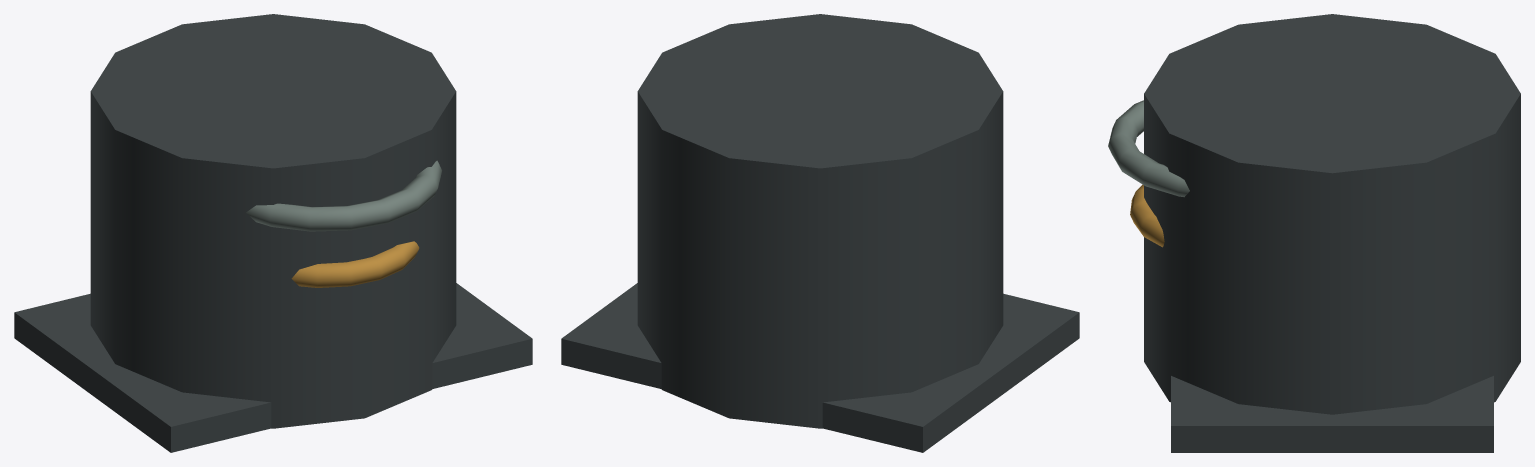
The model's file is clockwork_moss_terrarium.glb.
3 views of the same model, side by side, from view 1: azimuth 30°, elevation 25°; view 2: azimuth 150°, elevation 25°; view 3: azimuth 270°, elevation 25° (orthographic). The views are drawn at different scales.
Parts seen in each view (by area): view 1: terrarium, habitat_base, gear_2, gear_1; view 2: terrarium, habitat_base; view 3: terrarium, habitat_base, gear_2, gear_1.
Part boxes in pixels (x1,y1,x2,y2): terrarium: [90, 14, 456, 428]; habitat_base: [14, 283, 532, 452]; gear_2: [246, 160, 441, 231]; gear_1: [291, 241, 419, 287]; terrarium: [637, 14, 1003, 428]; habitat_base: [561, 283, 1079, 452]; terrarium: [1144, 14, 1520, 414]; habitat_base: [1171, 376, 1493, 452]; gear_2: [1108, 100, 1189, 197]; gear_1: [1130, 184, 1164, 247].
Size of what is drawn, in the model's own units: 3.2 by 2.2 by 3.07.
